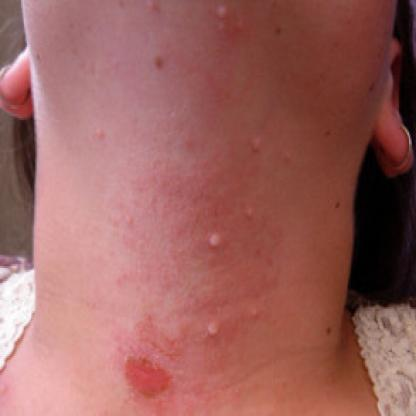Ringworm: (120, 342, 176, 412)
